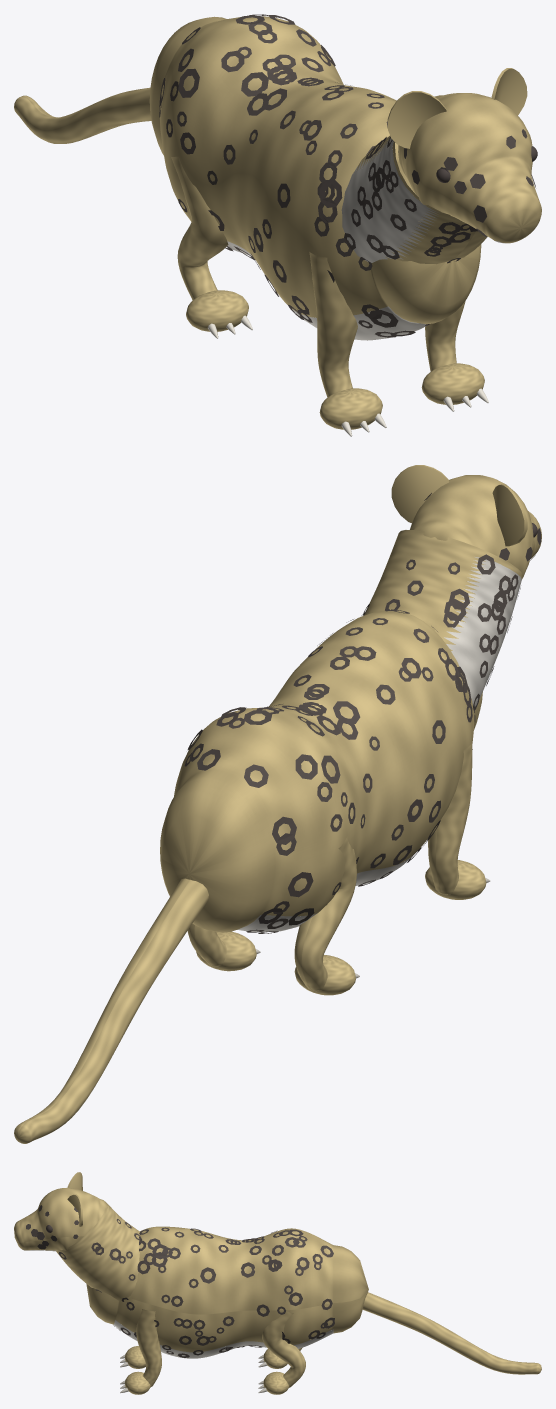
File: other-jaguar.glb
3 renders of one model, top to bottom at view 1: azimuth 30°, elevation 25°; view 2: azimuth 150°, elevation 25°; view 3: azimuth 270°, elevation 25°, orthographic. The views are drawn at different scales.
Visible parts, largest first — view 1: jaguar; view 2: jaguar; view 3: jaguar.
Part boxes in pixels (bbox=[...]): jaguar: bbox=[14, 14, 541, 436]; jaguar: bbox=[14, 465, 541, 1143]; jaguar: bbox=[14, 1172, 541, 1394].
Bounding box in the file's own units: 0.4618 × 1.01 × 2.47.
Materials: 6 (3 with a texture image).
